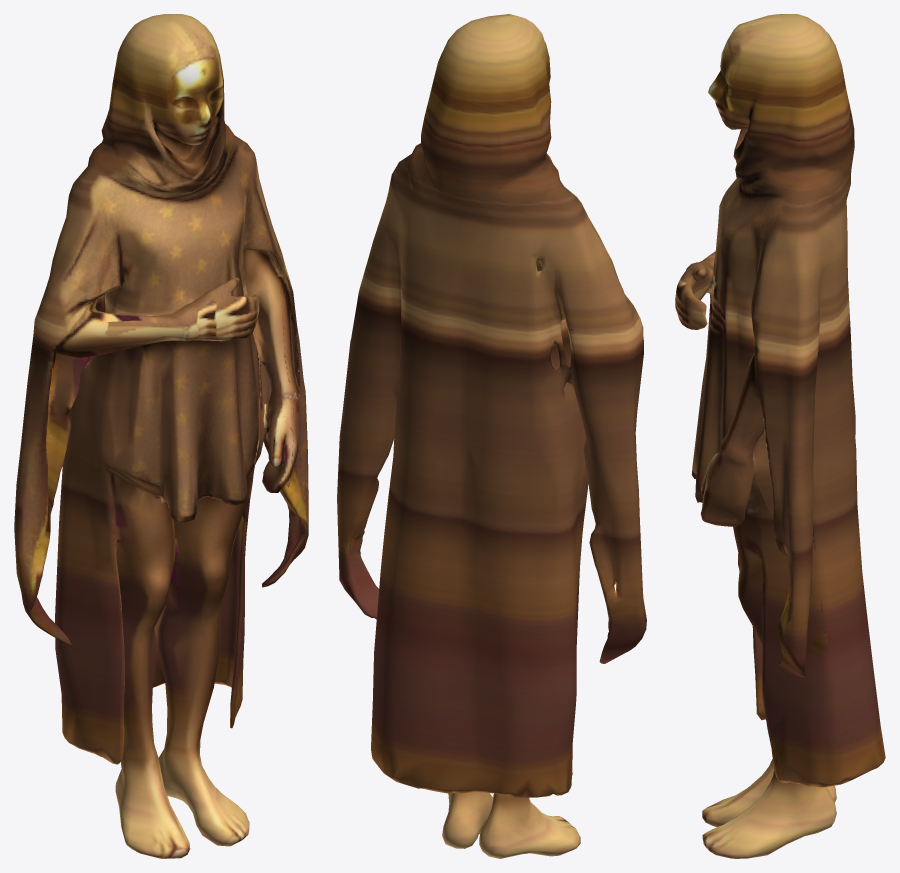
Rendered from VeilWalker.fbx.
3 renders of one model, left to right at view 1: azimuth 30°, elevation 25°; view 2: azimuth 150°, elevation 25°; view 3: azimuth 270°, elevation 25°, orthographic. The views are drawn at different scales.
Parts seen in each view (by area): view 1: VeilWalker; view 2: VeilWalker; view 3: VeilWalker.
Part boxes in pixels (box(x1,y1,x2,y2)): VeilWalker: box(14, 14, 308, 858); VeilWalker: box(337, 14, 646, 858); VeilWalker: box(675, 14, 885, 858).
Size of the model in its own units: 190 by 500 by 116.
1 material, 1 textured.
